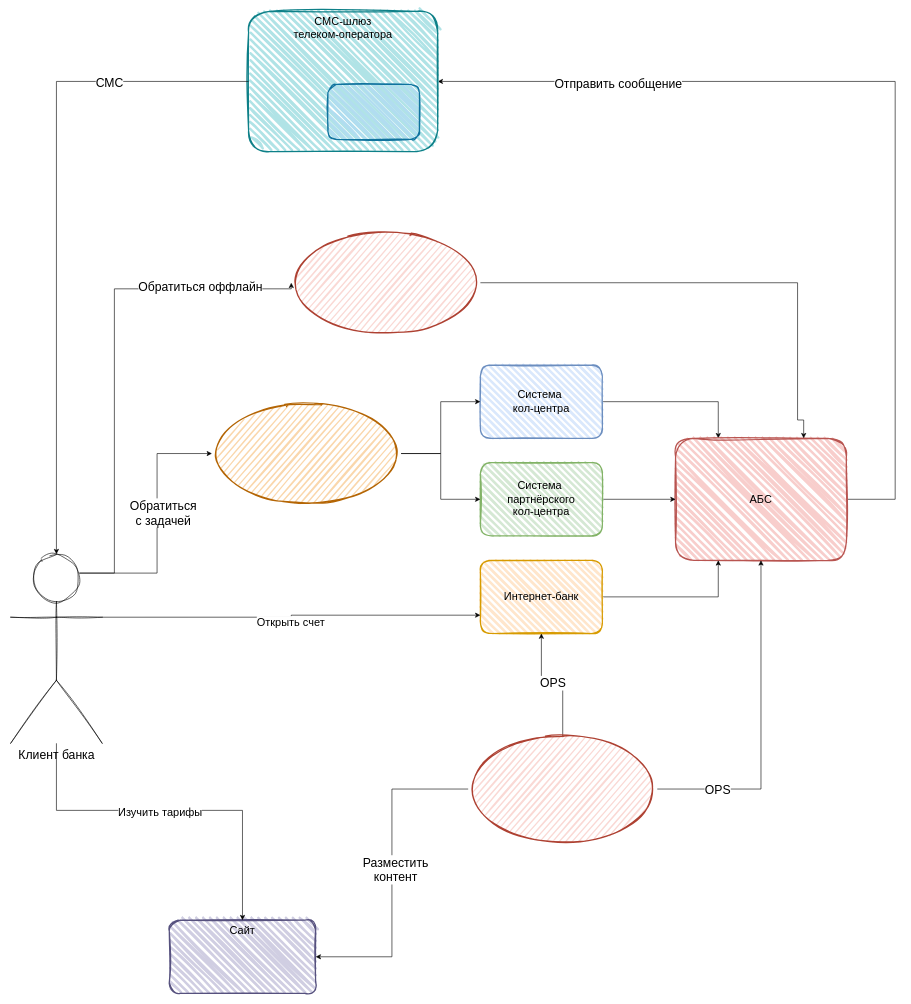
The diagram is 911 pixels wide and 1004 high, and some of its shapes have lost their labels. Here are the shapes that lost their labels. From the top down, the centre of each, then its label:
At point (373, 112): "Телеком-оператор".
At point (385, 282): "Фронт-офис".
At point (306, 453): "Кол-центр".
At point (562, 788): "Бэк-офис".
